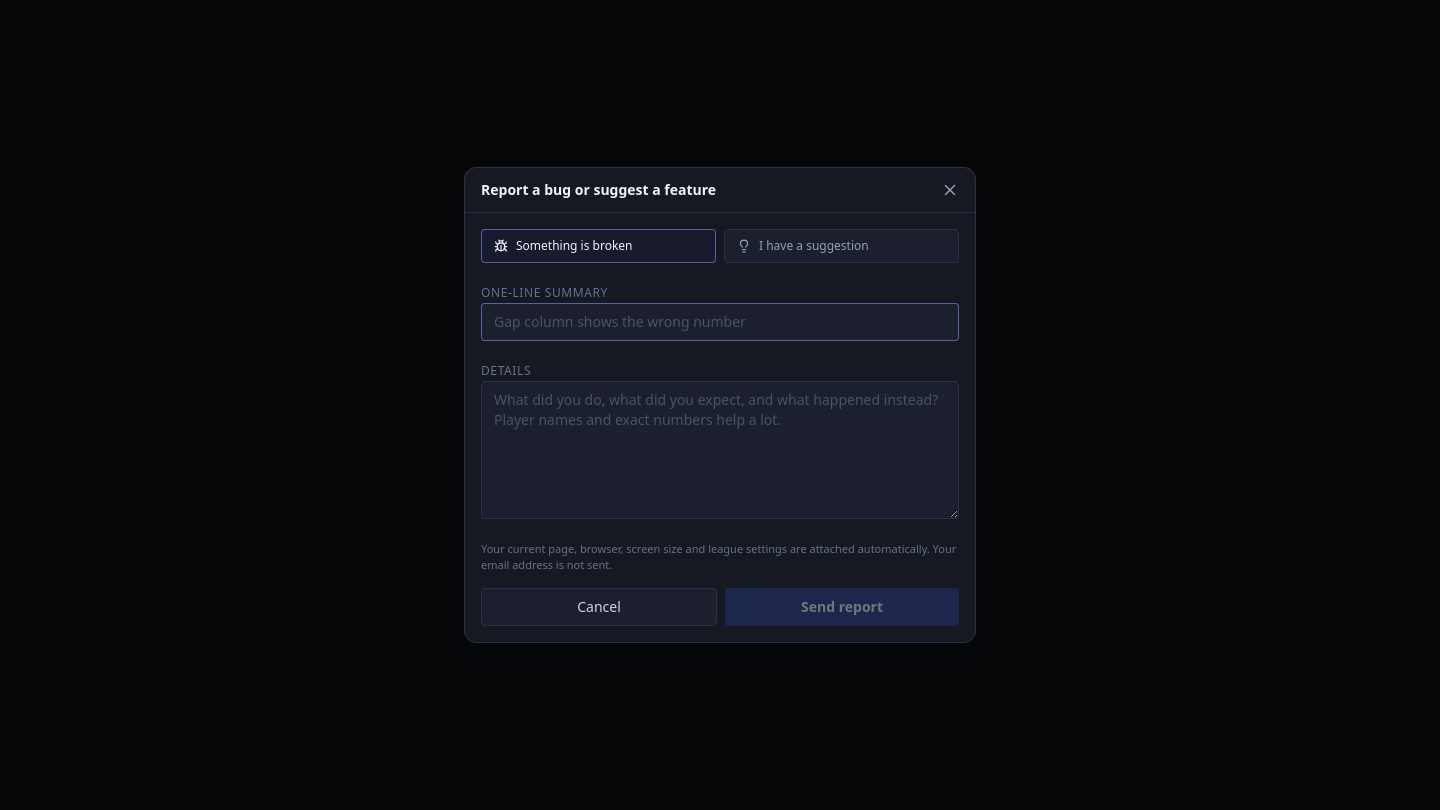
Scenario: FeedbackModal › shows the server message when filing fails, and does not claim success
Type "Gap column is wrong" into the field with placeholder "Gap column shows the wrong number" at x=720, y=322, box x1=481 y1=303 x2=959 y2=341
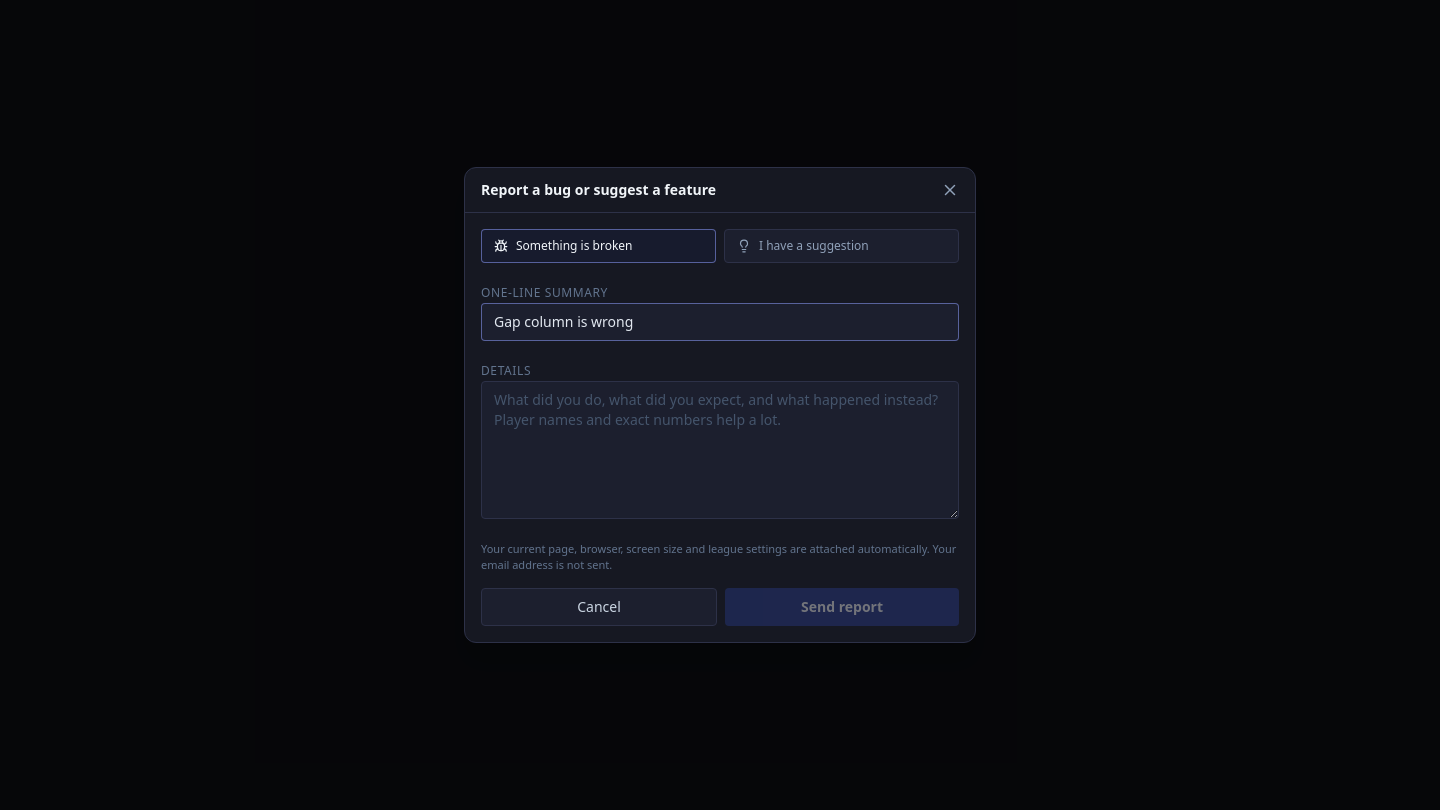
Replace the text in the text box with placeholder "What did you do" with "On half-PPR the gap does not match the ceiling shown." at x=720, y=450, box x1=481 y1=381 x2=959 y2=519
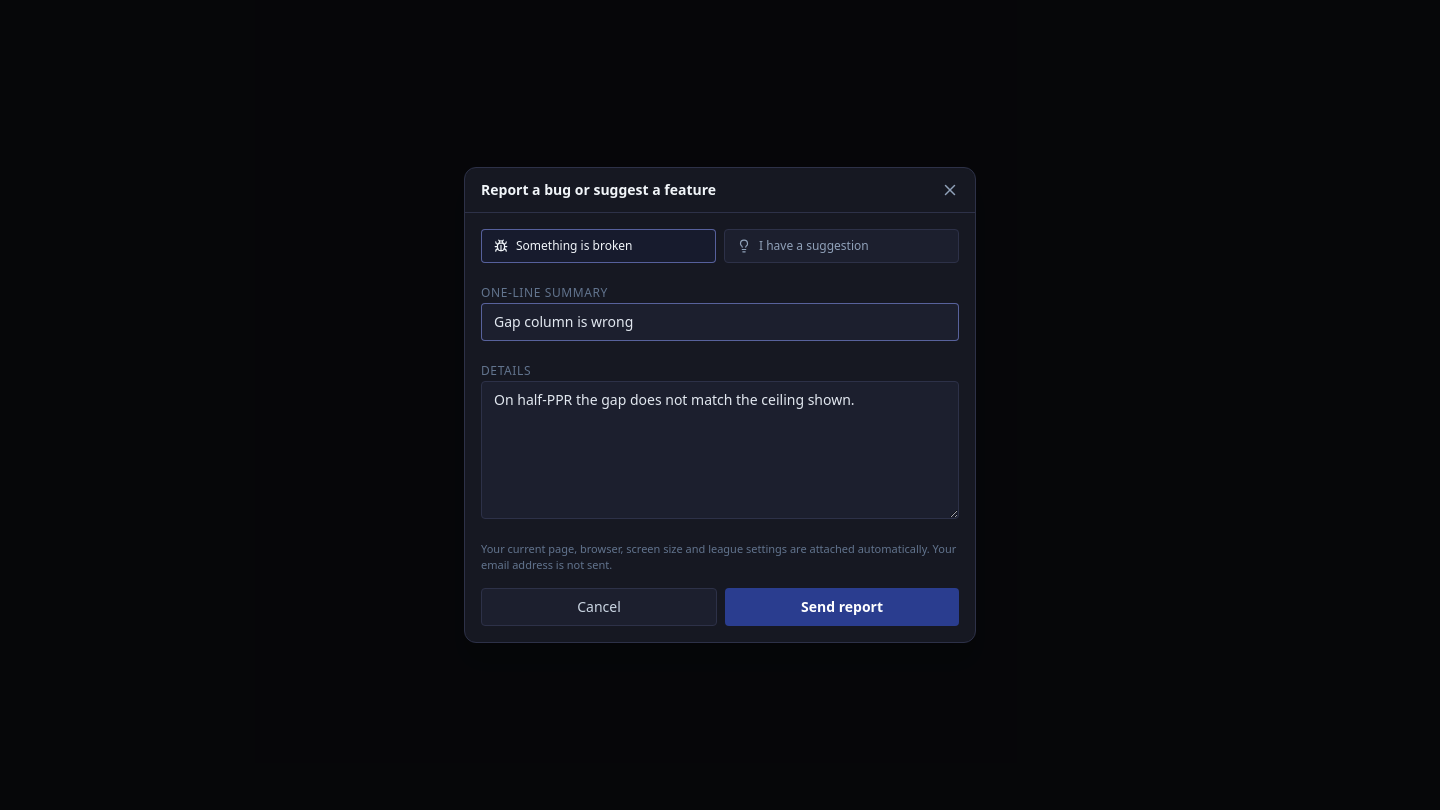
Click the button "Send report" at x=842, y=607, box x1=725 y1=588 x2=959 y2=626
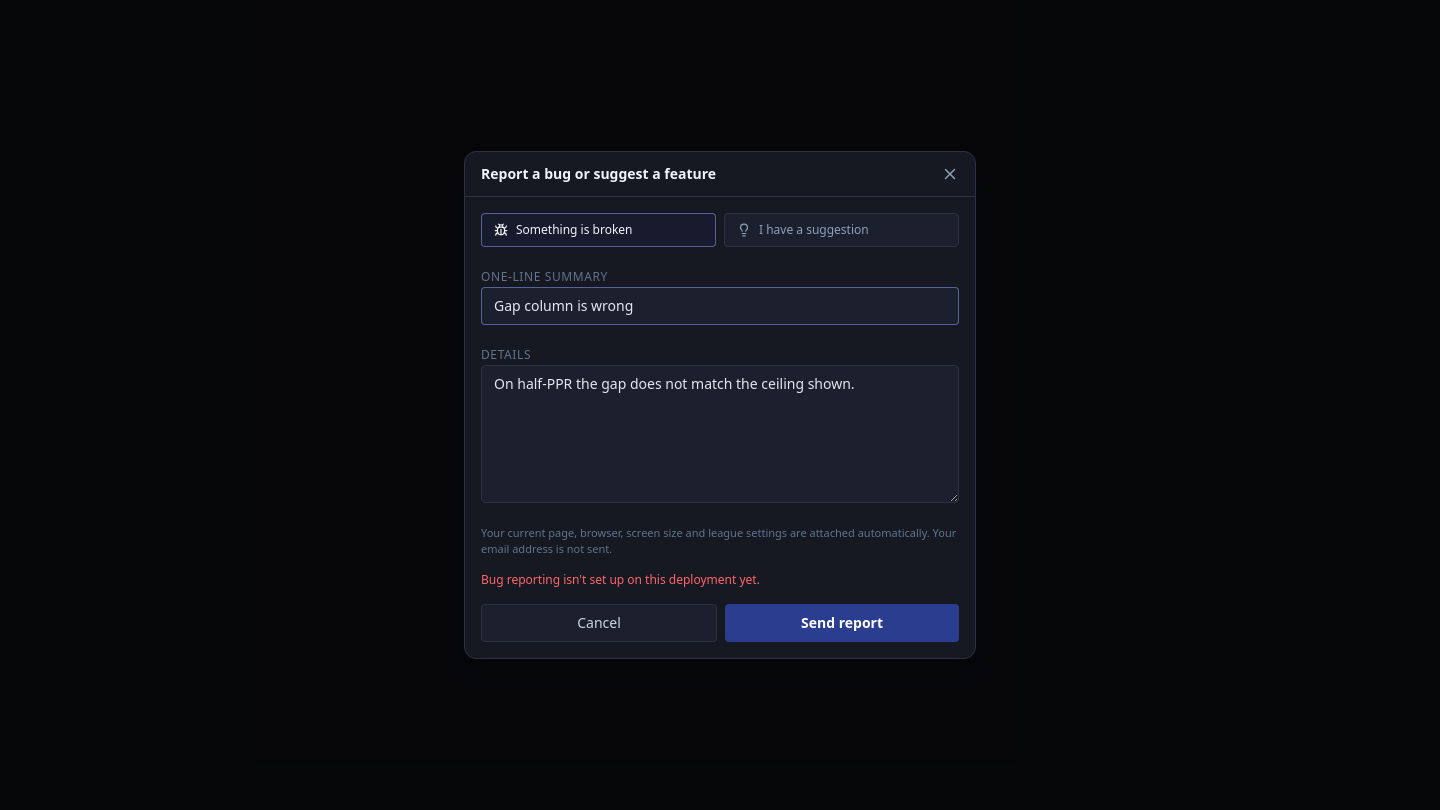
Check: the message shows "isn't set up", box x1=481 y1=571 x2=760 y2=588
